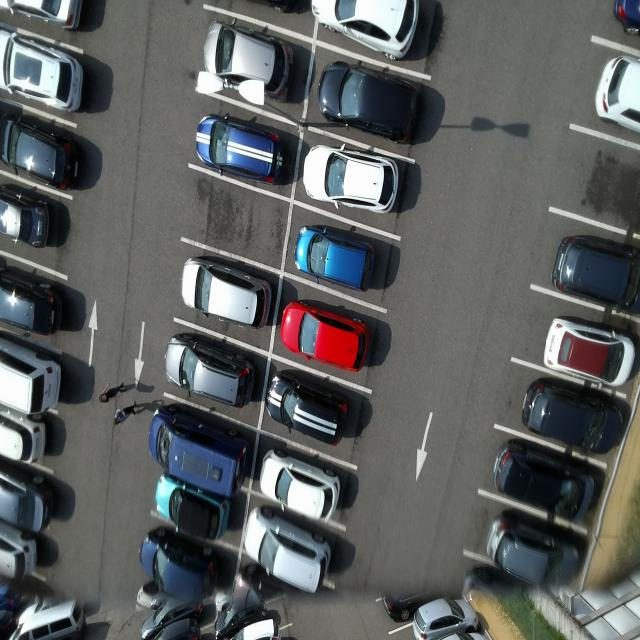car: (489, 434, 598, 522), (147, 406, 250, 494), (319, 55, 419, 145), (519, 376, 624, 458), (476, 513, 582, 590), (204, 20, 297, 106), (245, 506, 332, 593), (278, 297, 374, 375), (1, 28, 87, 114), (300, 143, 402, 215), (544, 314, 638, 391), (1, 113, 88, 195), (181, 255, 273, 331), (165, 335, 255, 412), (196, 114, 286, 189), (266, 370, 349, 447), (293, 222, 378, 294), (140, 533, 226, 604), (148, 471, 232, 543), (257, 450, 343, 518), (1, 188, 53, 254)
free_space: (183, 164, 295, 277)
